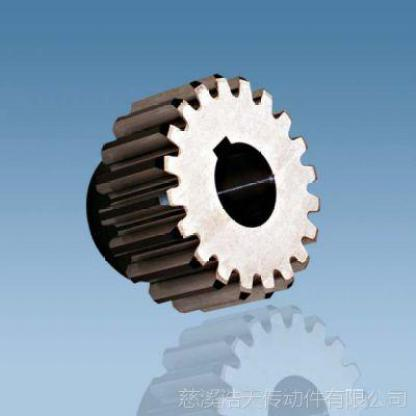FOD: (84, 70, 322, 320)
